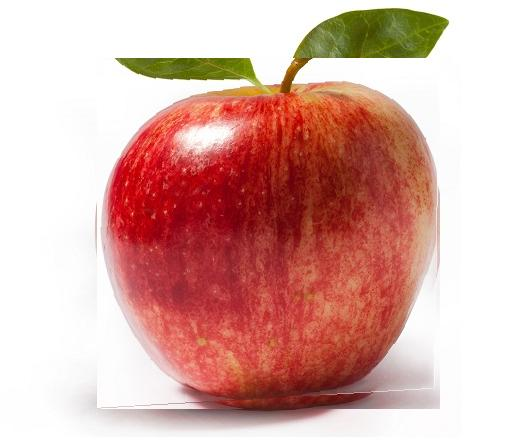Apple Fresh: (98, 59, 441, 410)
